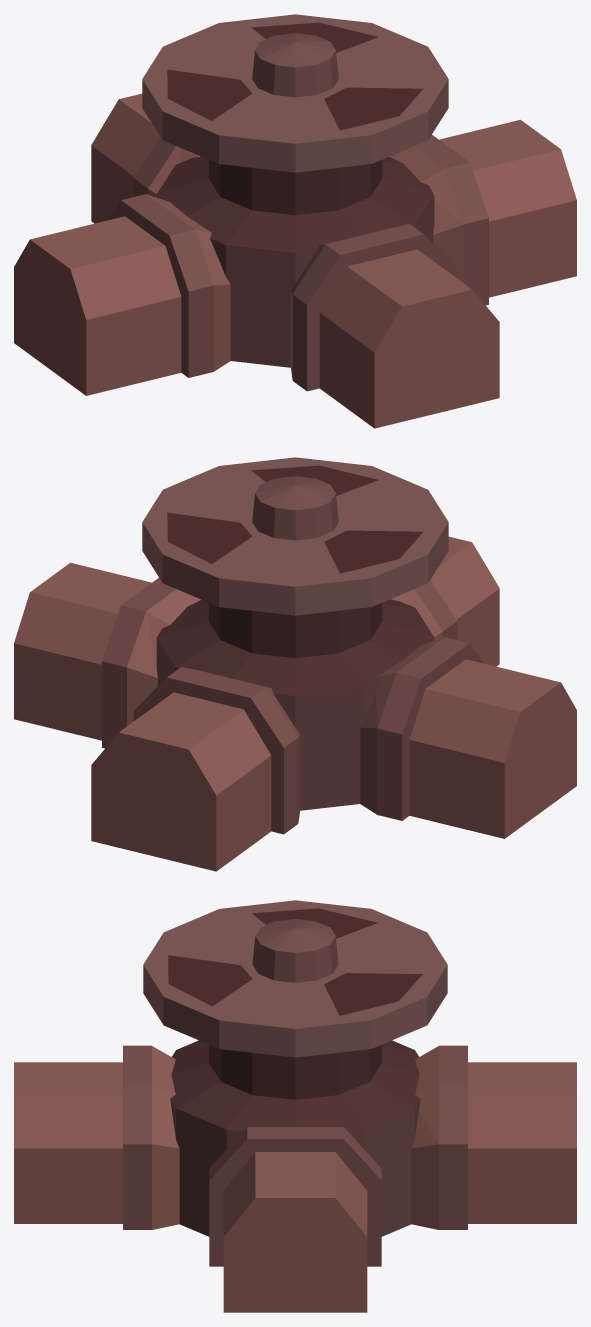
File: vce_valve_chem_off.obj
3 views of the same model, one above another, from view 1: azimuth 30°, elevation 25°; view 2: azimuth 150°, elevation 25°; view 3: azimuth 270°, elevation 25° (orthographic).
Size of the model in its own units: 0.98 by 0.51 by 0.98.
